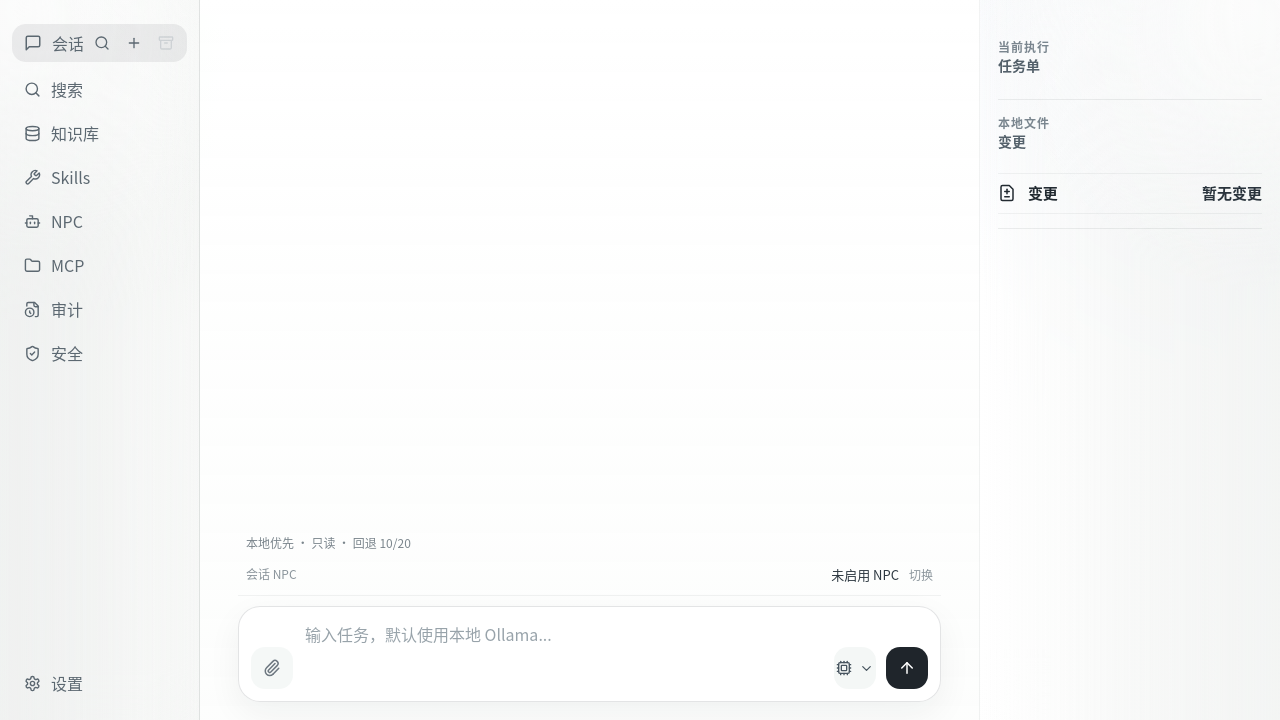
Test: App › aggregates local knowledge only from the selected NPC bound libraries during ordinary chat
Click the button with aria-label "会话 NPC".
click(882, 574)  # box left=831, top=565, right=933, bottom=584
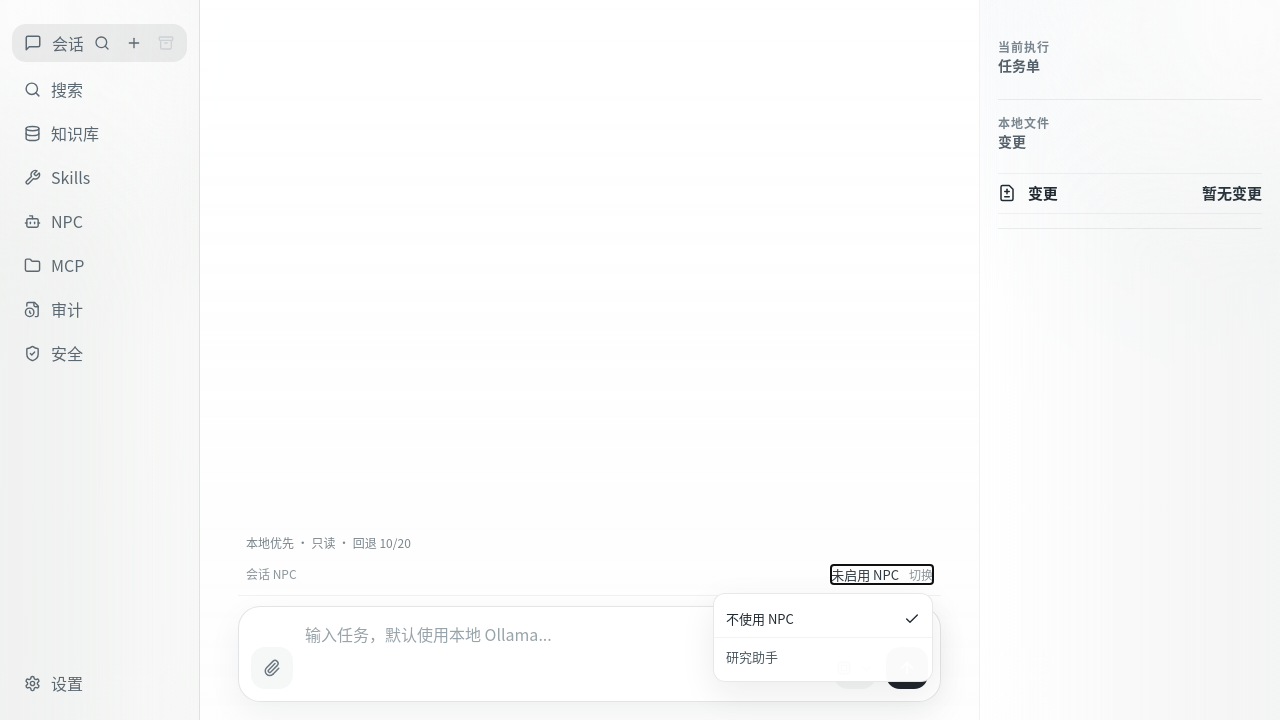
Click the menu item "研究助手".
click(823, 656)  # box left=714, top=637, right=932, bottom=675
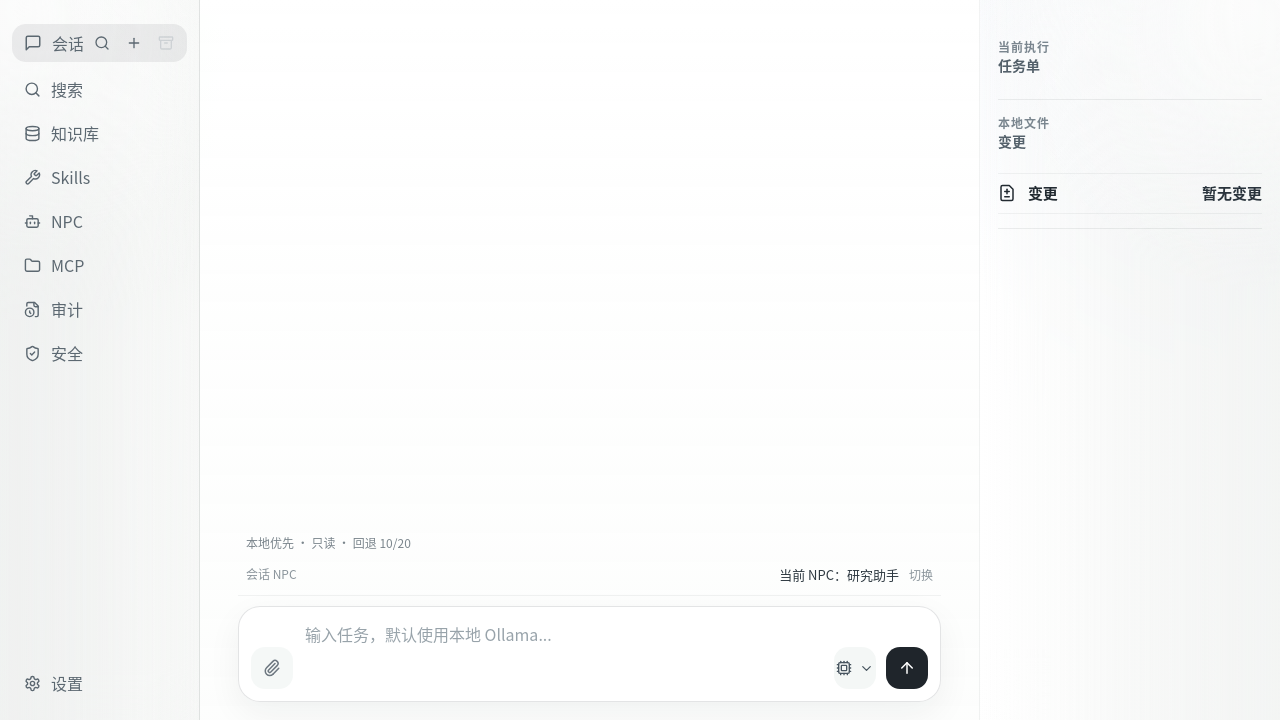
Type "总结这个产品的回答规则" into the text box labelled "输入任务".
click(562, 654); type("总结这个产品的回答规则")  # box left=303, top=619, right=822, bottom=689
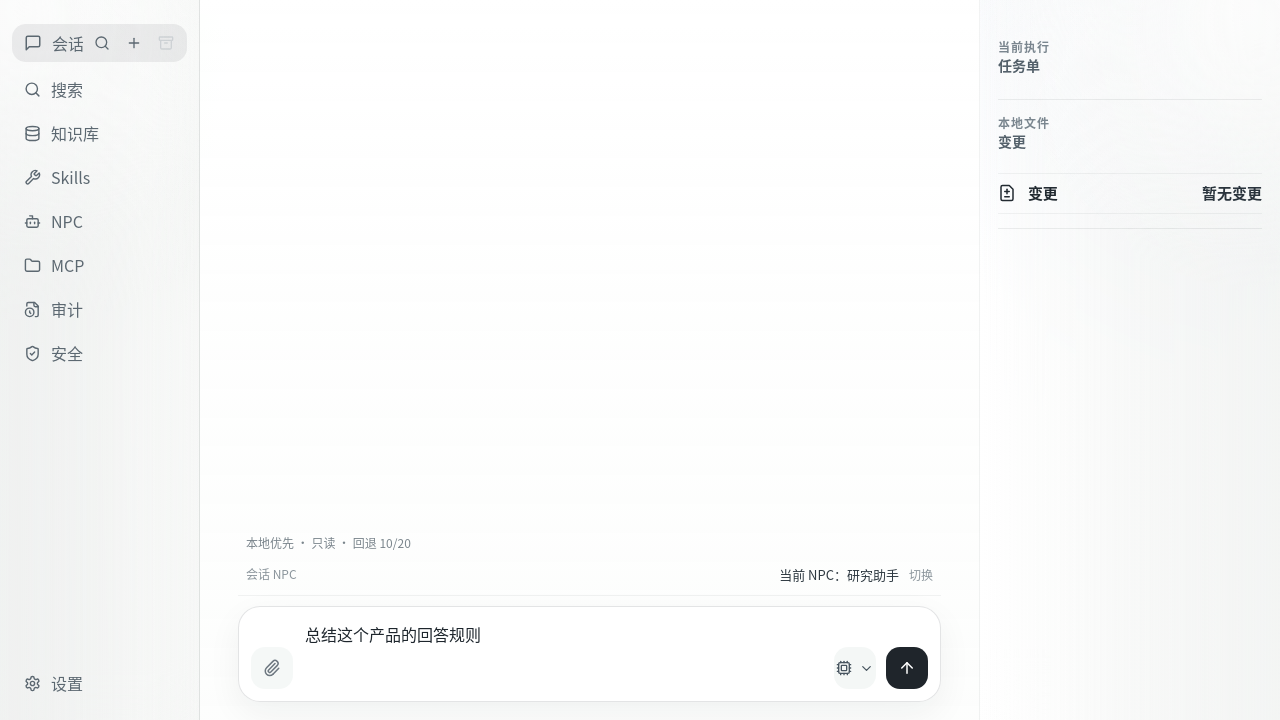
Click the button named "发送".
click(907, 668)  # box left=886, top=647, right=928, bottom=689
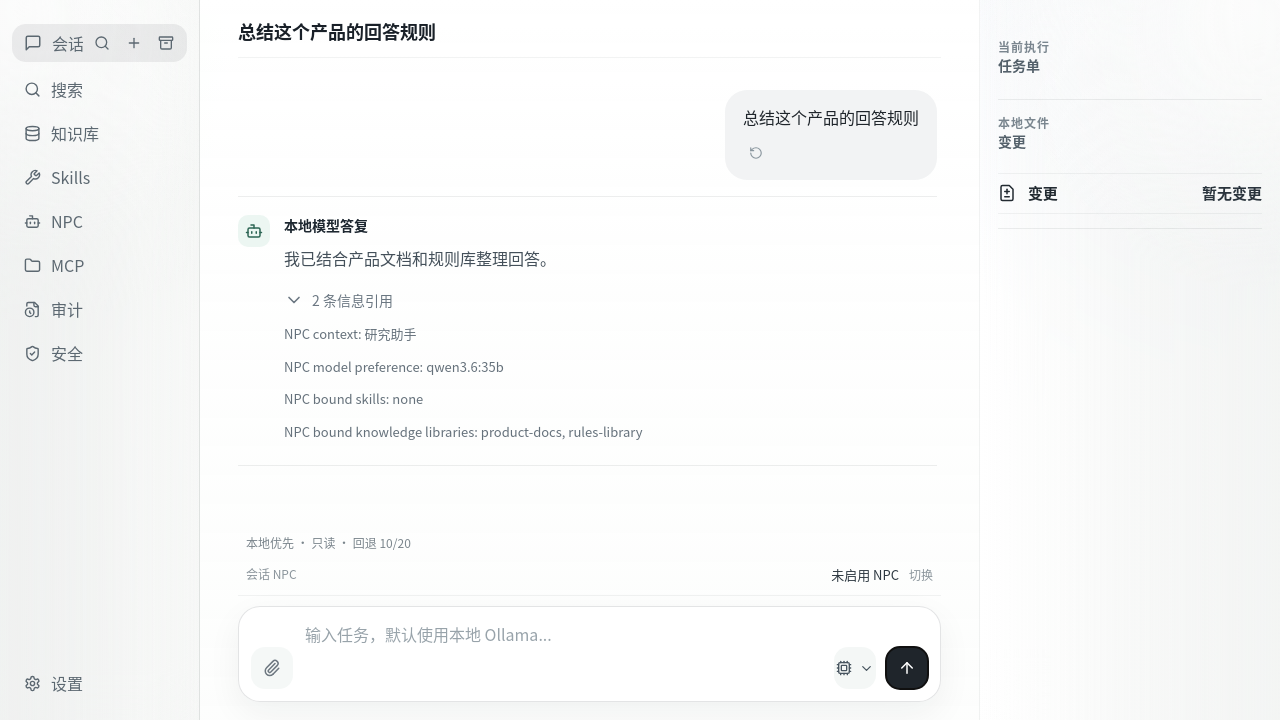
Now the text "我已结合产品文档和规则库整理回答。" is shown, box left=284, top=246, right=556, bottom=270
